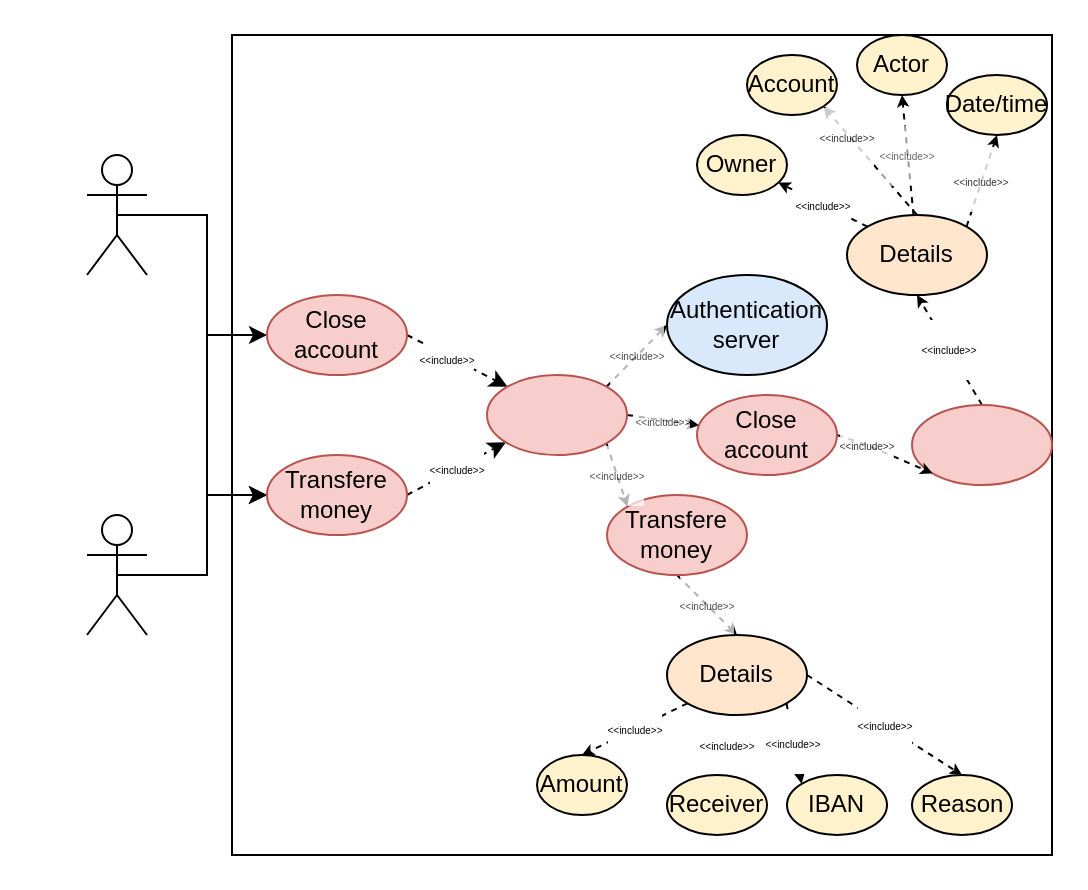
Image size: 1088x890. Some labels were removed from this diagram. Here are the shapes that lost their labels. From the top down, the centre of each, then its label:
[116,214]: Bank employee
[556,414]: Login to account
[981,444]: Log action
[116,574]: Customer
